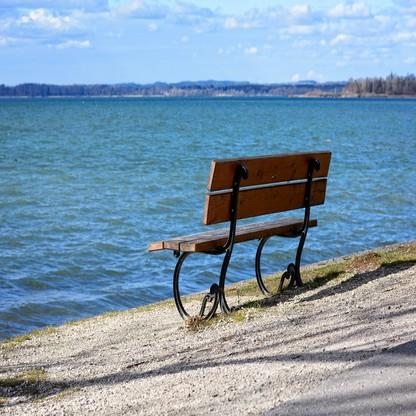obstacle: (138, 149, 346, 318)
